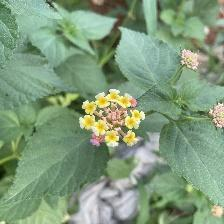common lanthana: (78, 87, 145, 153)
